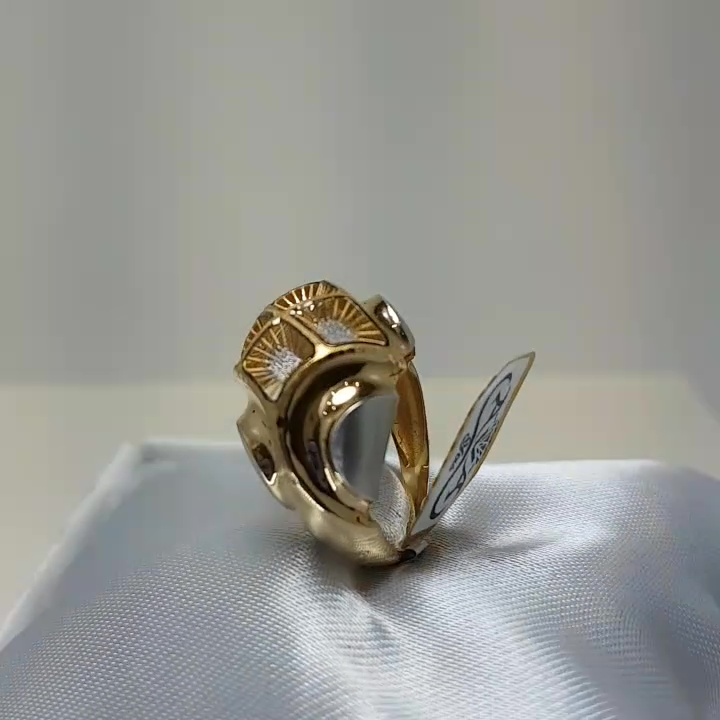Ring 2: (197, 265, 510, 580)
